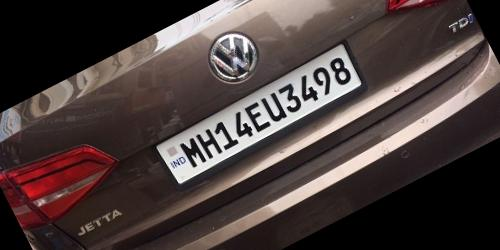plate: (150, 32, 383, 198)
